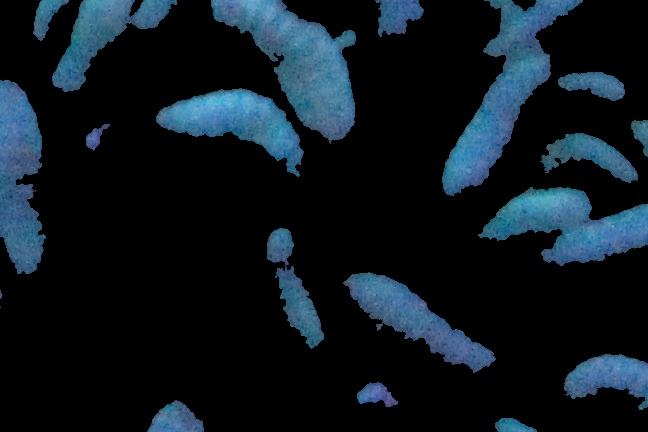larvae: (341, 268, 518, 394), (211, 1, 356, 143), (442, 41, 553, 203), (157, 85, 321, 170), (1, 79, 52, 288), (250, 230, 330, 357), (541, 204, 647, 279), (482, 185, 588, 253), (532, 131, 637, 196), (556, 345, 648, 417), (54, 1, 129, 87), (555, 68, 629, 110)
